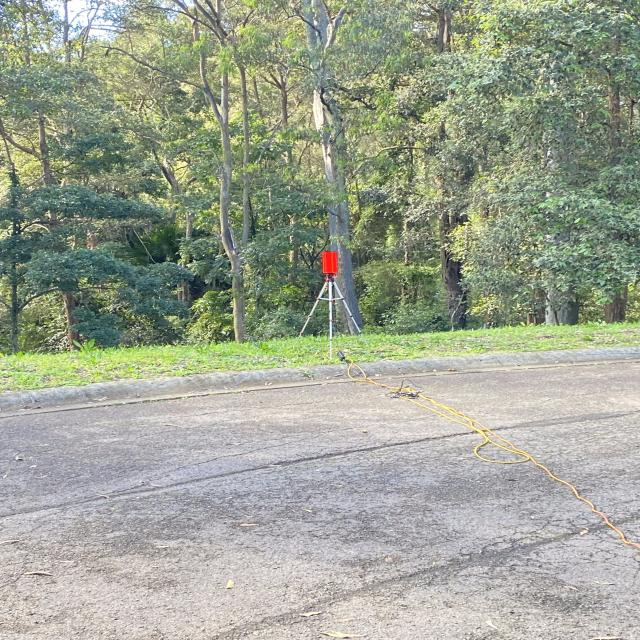matrix: (320, 250, 339, 275)
